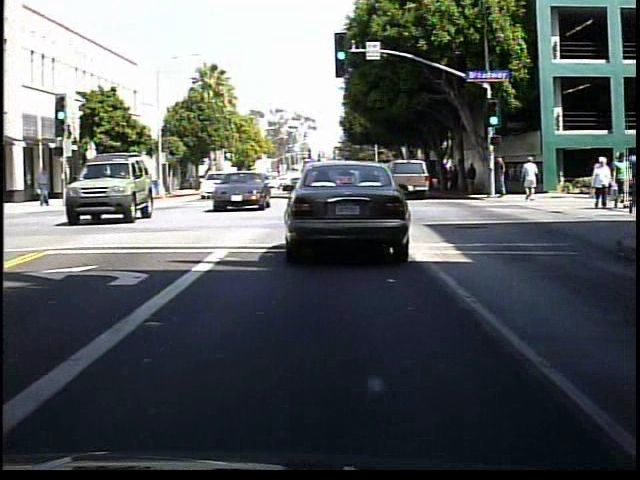person: (586, 157, 614, 211), (611, 146, 629, 211), (492, 153, 513, 205), (520, 155, 542, 204), (38, 164, 58, 208), (468, 161, 482, 193), (453, 163, 465, 195)
